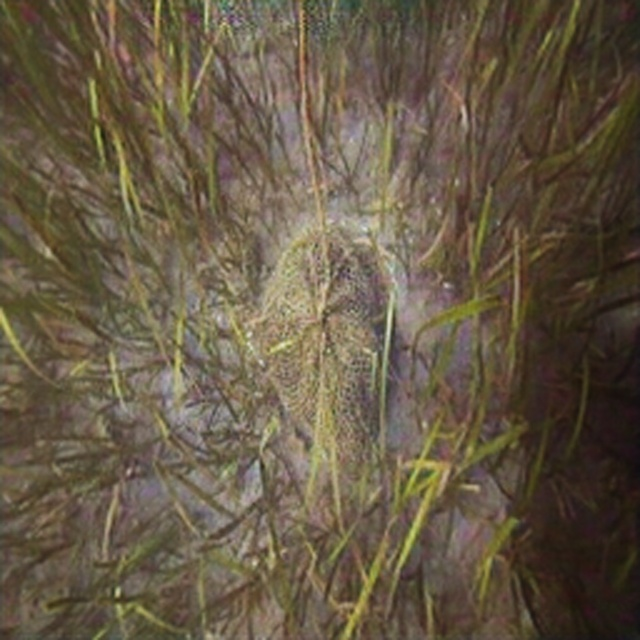mine: (251, 222, 396, 484)
